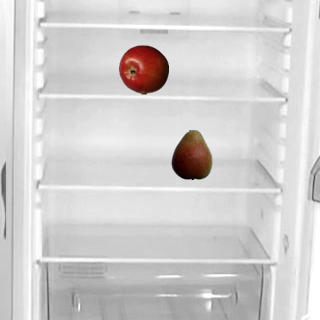Apple Braeburn: (118, 44, 168, 94)
Pear Forelle: (166, 129, 216, 179)
